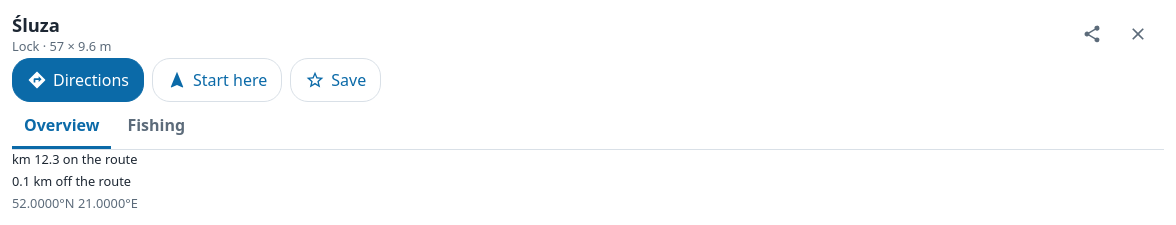
Test: PlaceCard › has Overview and the tabs given, and falls back to Overview when a tab goes
This screenshot has width=1176, height=225.
Click the tab "Fishing" at (156, 126), box [115,104,197,149]
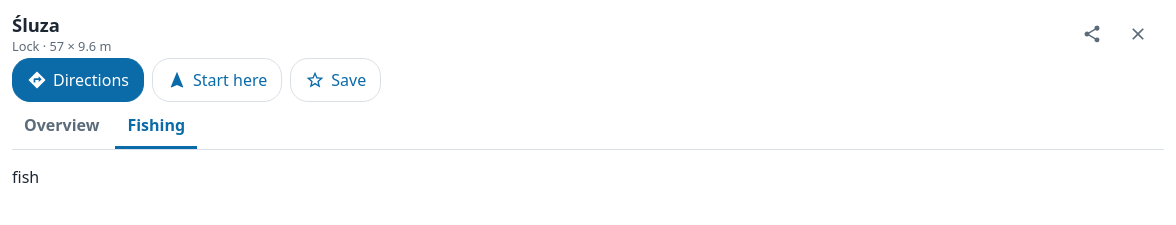
Check: the text "fish" is shown, box [12,166,39,188]
